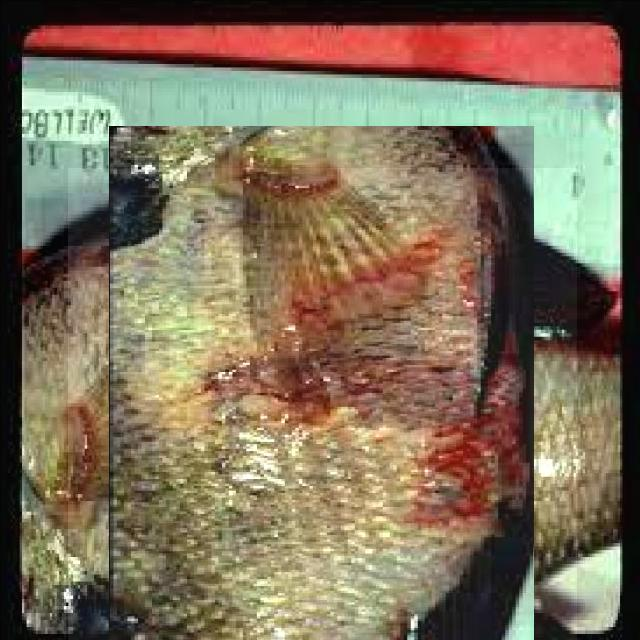EUS Disease: (67, 167, 576, 640), (24, 197, 484, 580)
